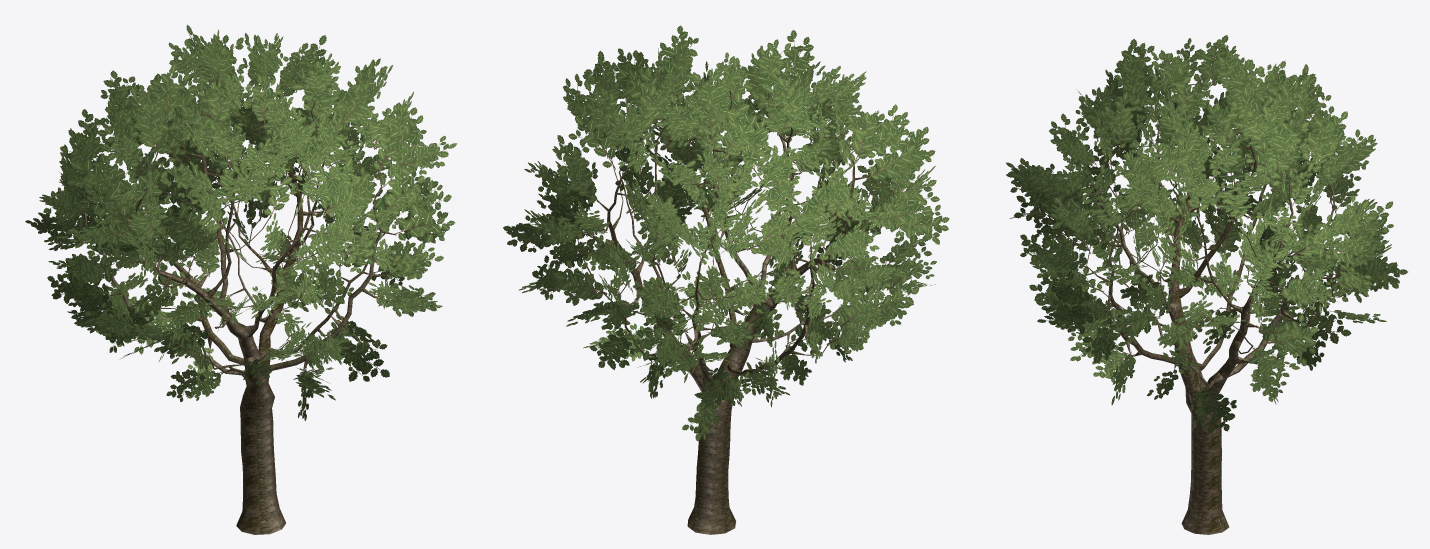
File: Scenery_Tree_V2.fbx
3 views of the same model, side by side, from view 1: azimuth 30°, elevation 25°; view 2: azimuth 150°, elevation 25°; view 3: azimuth 270°, elevation 25° (orthographic). The views are drawn at different scales.
Parts seen in each view (by area): view 1: Scenery_Tree_V2_LOD0; view 2: Scenery_Tree_V2_LOD0; view 3: Scenery_Tree_V2_LOD0.
Boxes of the visible parts, x1,y1,x2,y2 form: Scenery_Tree_V2_LOD0: [25, 24, 457, 534]; Scenery_Tree_V2_LOD0: [503, 25, 949, 534]; Scenery_Tree_V2_LOD0: [1006, 35, 1407, 534].
Size of what is drawn, in the model's own units: 12.72 by 15.05 by 12.45.
